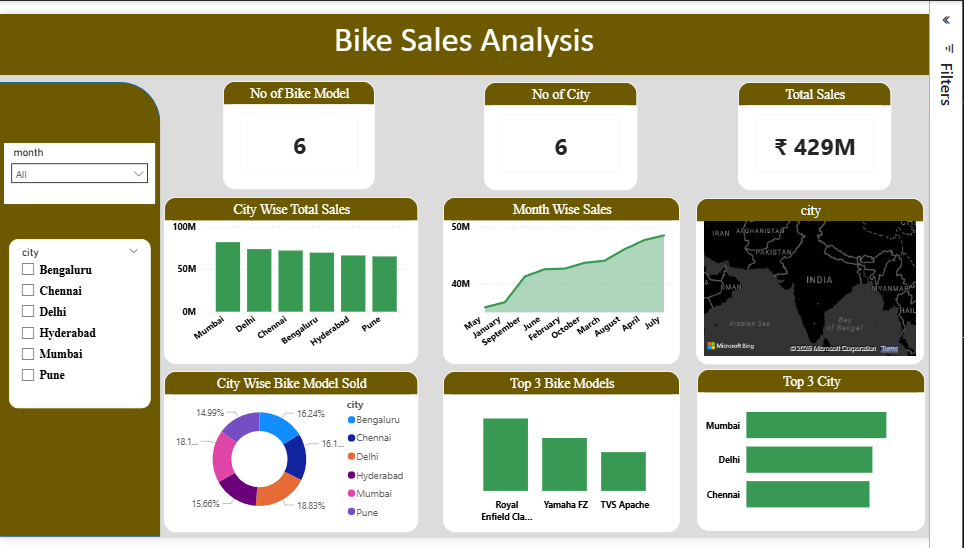

Layout of this report page (visuals, bound fields, positions):
{"tool":"powerbi","page":{"name":"Page 1","canvas":[1280,720],"ordinal":0},"visuals":[{"type":"textbox","box":[0,0,1280,83.8],"z":0},{"type":"cardVisual","title":"No of Bike Model","fields":{"Data":["Count(bike_sales bike.bike_model)"]},"box":[307.6,91.6,209.5,149.2],"z":1000},{"type":"cardVisual","title":"No of City","fields":{"Data":["Count(bike_sales bike.city)"]},"box":[667.5,93.6,210.6,148.6],"z":2000},{"type":"cardVisual","title":"Total Sales","fields":{"Data":["Sum(bike_sales bike.revenue_inr)"]},"box":[1017.1,93.6,210.6,148.6],"z":3000},{"type":"shape","box":[0,94,221.9,626],"z":4000},{"type":"columnChart","title":"City Wise Total Sales","fields":{"Y":["Sum(bike_sales bike.revenue_inr)"],"Category":["bike_sales bike.city"]},"box":[227.1,252.1,349.6,229.8],"z":5000},{"type":"filledMap","fields":{"Category":["bike_sales bike.city"]},"box":[959.6,252.7,314.2,229.1],"z":6000},{"type":"areaChart","title":"Month Wise Sales","fields":{"Y":["Sum(bike_sales bike.revenue_inr)"],"Category":["bike_sales bike.sale_date.Variation.Date Hierarchy.Month"]},"box":[611.1,252.1,326.2,229.8],"z":7000},{"type":"donutChart","title":"City Wise Bike Model Sold","fields":{"Series":["bike_sales bike.city"],"Y":["Sum(bike_sales bike.units_sold)"]},"box":[227.1,491.4,349.6,221.6],"z":8000},{"type":"columnChart","title":"Top 3 Bike Models","fields":{"Category":["bike_sales bike.bike_model"],"Y":["Sum(bike_sales bike.revenue_inr)"]},"box":[611,491,326,222],"z":9000},{"type":"barChart","title":"Top 3 City","fields":{"Category":["bike_sales bike.city"],"Y":["Sum(bike_sales bike.revenue_inr)"]},"box":[960.9,488.3,314.2,222.5],"z":10000},{"type":"slicer","fields":{"Values":["bike_sales bike.city"]},"box":[13.8,309.7,195.4,232.6],"z":11000},{"type":"slicer","fields":{"Values":["bike_sales bike.month"]},"box":[6.9,177.5,207.8,84],"z":11001}]}

Visuals, with their boxes in screenshot pixels (x1, y1, x2, y2):
textbox: box(0, 10, 941, 72)
"No of Bike Model" cardVisual: box(218, 78, 374, 189)
"No of City" cardVisual: box(486, 80, 642, 190)
"Total Sales" cardVisual: box(745, 80, 902, 190)
shape: box(0, 80, 155, 545)
"City Wise Total Sales" columnChart: box(159, 197, 418, 368)
filledMap - bike_sales bike.city: box(703, 198, 936, 368)
"Month Wise Sales" areaChart: box(444, 197, 686, 368)
"City Wise Bike Model Sold" donutChart: box(159, 375, 418, 540)
"Top 3 Bike Models" columnChart: box(444, 375, 686, 540)
"Top 3 City" barChart: box(704, 373, 937, 538)
slicer - bike_sales bike.city: box(0, 240, 145, 413)
slicer - bike_sales bike.month: box(0, 142, 149, 204)
